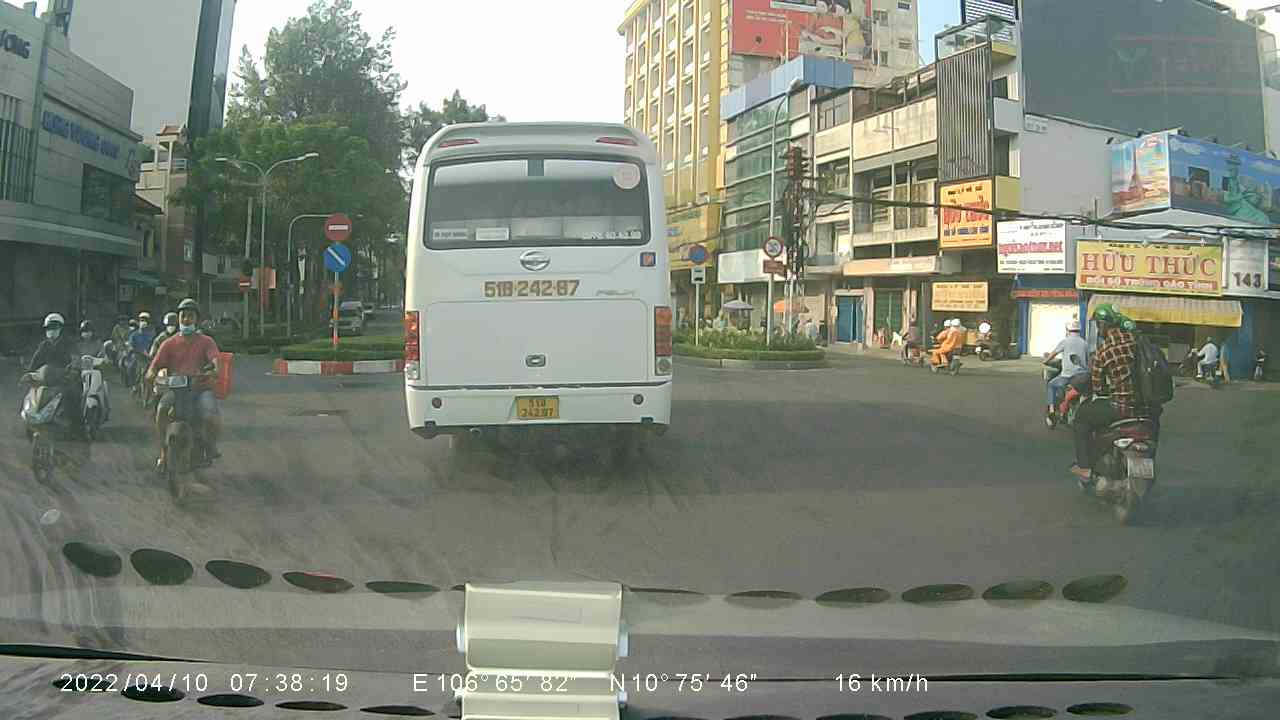Cam di nguoc chieu: (323, 209, 352, 240)
Huong di phai re phai: (320, 242, 351, 272)
